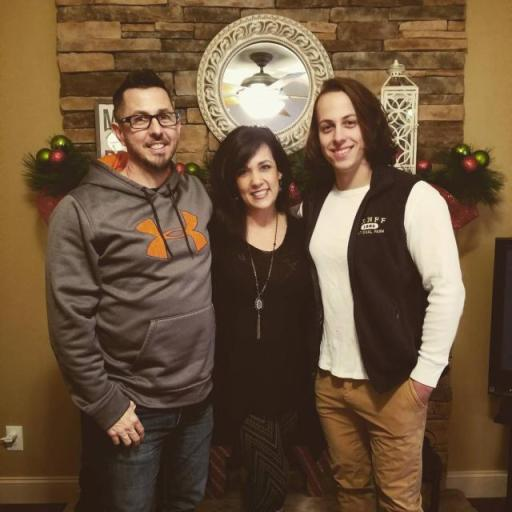Under Armour: (133, 208, 209, 260)
